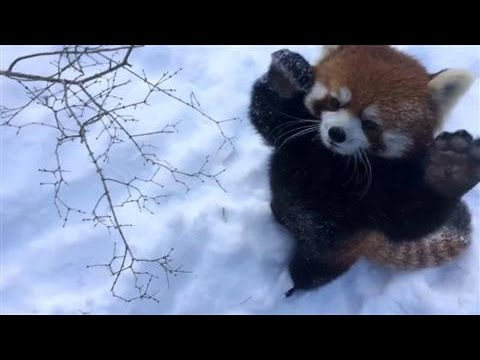red_panda: (249, 46, 480, 300)
